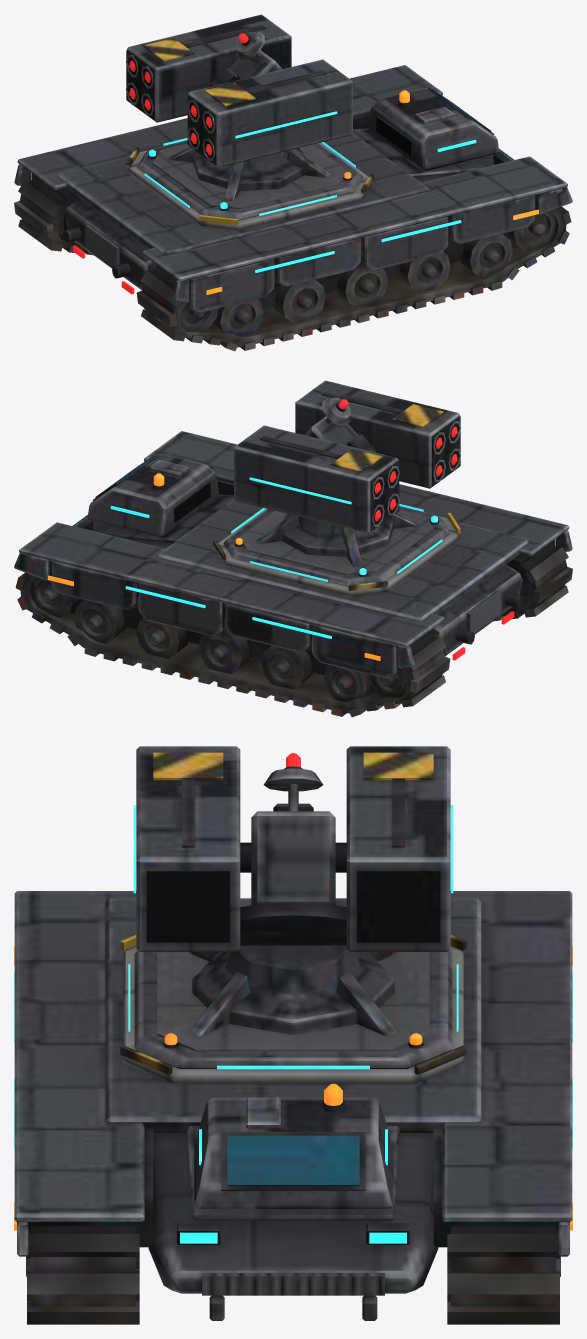
Rendered from spire_packed.glb.
3 views of the same model, one above another, from view 1: azimuth 30°, elevation 25°; view 2: azimuth 150°, elevation 25°; view 3: azimuth 270°, elevation 25° (orthographic). The views are drawn at different scales.
Parts seen in each view (by area): view 1: Hull; view 2: Hull; view 3: Hull.
Boxes of the visible parts, x1=… form: Hull: x1=14, y1=14, x2=572, y2=351; Hull: x1=14, y1=380, x2=572, y2=717; Hull: x1=14, y1=746, x2=572, y2=1324.
Bounding box in the file's own units: 6.54 × 3.66 × 4.47.
Materials: 1 (1 with a texture image).
